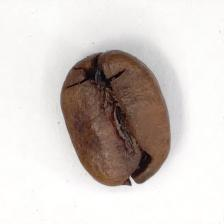NG: (82, 65, 155, 173)
